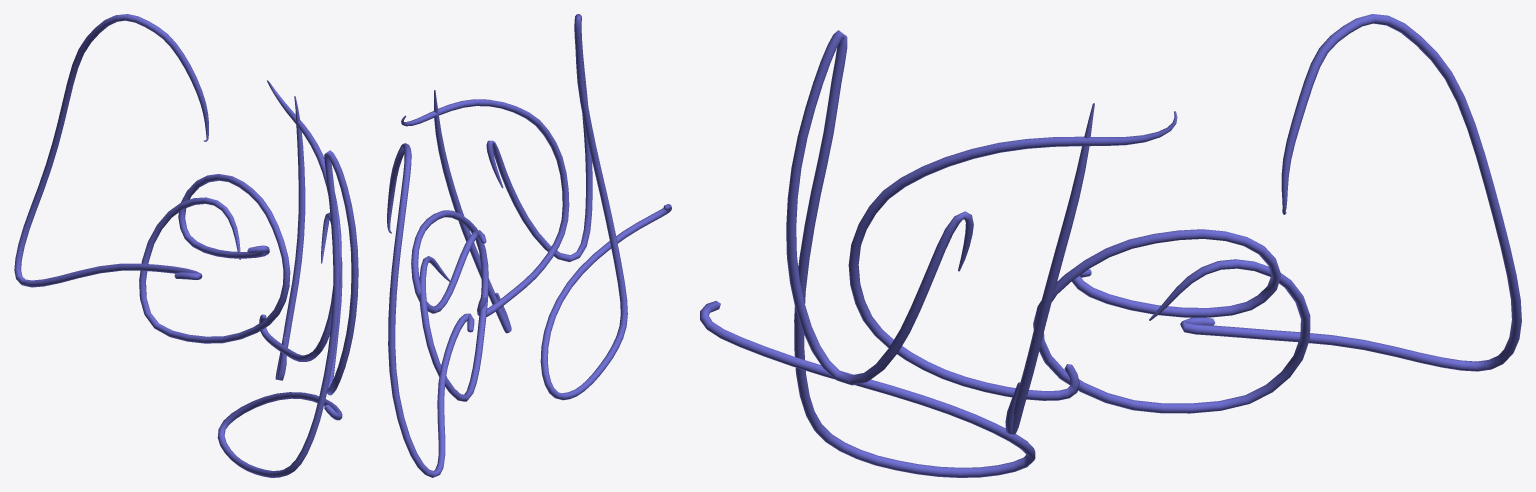
The picture shows the model from 3 angles, left to right: view 1: azimuth 30°, elevation 25°; view 2: azimuth 150°, elevation 25°; view 3: azimuth 270°, elevation 25°; orthographic projection. The views are drawn at different scales.
Visible parts, largest first — view 1: brush_NeonPulse_g0_b0; view 2: brush_NeonPulse_g0_b0; view 3: brush_NeonPulse_g0_b0.
Boxes of the visible parts, x1,y1,x2,y2 form: brush_NeonPulse_g0_b0: (14,14,358,477); brush_NeonPulse_g0_b0: (387,14,671,477); brush_NeonPulse_g0_b0: (700,14,1521,477).
Size of the model in its own units: 0.3567 by 0.7813 by 1.2.
